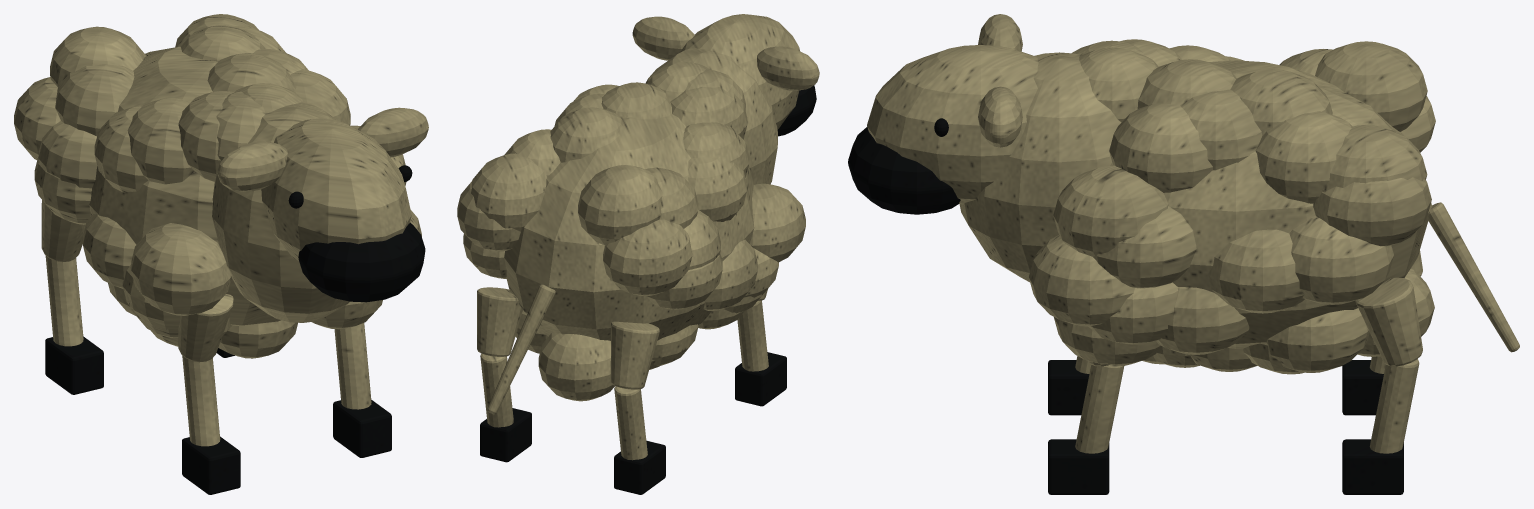
Rendered from PROP-56B018EAFACF_lod0.glb.
3 views of the same model, side by side, from view 1: azimuth 30°, elevation 25°; view 2: azimuth 150°, elevation 25°; view 3: azimuth 270°, elevation 25° (orthographic). The views are drawn at different scales.
Visible parts, largest first — view 1: wool_tufts.001, animal_head.004, animal_torso.004, animal_neck.004, hoof.004, lower_leg.004, muzzle.004, animal_ears.004, upper_leg.004; view 2: wool_tufts.001, animal_torso.004, hoof.004, upper_leg.004, lower_leg.004, animal_head.004, animal_ears.004, animal_neck.004, tail.004, muzzle.004; view 3: wool_tufts.001, animal_neck.004, animal_head.004, animal_torso.004, hoof.004, lower_leg.004, muzzle.004, upper_leg.004, animal_ears.004, tail.004.
Boxes of the visible parts, left/top/right/bottom form: wool_tufts.001: left=14, top=14, right=421, bottom=358; animal_head.004: left=261, top=118, right=411, bottom=260; animal_torso.004: left=81, top=46, right=280, bottom=325; animal_neck.004: left=212, top=102, right=349, bottom=322; hoof.004: left=45, top=336, right=391, bottom=494; lower_leg.004: left=45, top=255, right=371, bottom=446; muzzle.004: left=298, top=222, right=425, bottom=302; animal_ears.004: left=217, top=107, right=428, bottom=191; upper_leg.004: left=41, top=200, right=233, bottom=362; wool_tufts.001: left=457, top=62, right=805, bottom=401; animal_torso.004: left=504, top=114, right=754, bottom=340; hoof.004: left=480, top=352, right=786, bottom=494; upper_leg.004: left=477, top=287, right=767, bottom=389; lower_leg.004: left=480, top=300, right=768, bottom=460; animal_head.004: left=680, top=14, right=799, bottom=129; animal_ears.004: left=632, top=16, right=819, bottom=90; animal_neck.004: left=645, top=48, right=777, bottom=184; tail.004: left=487, top=284, right=555, bottom=414; muzzle.004: left=777, top=85, right=816, bottom=136; wool_tufts.001: left=1028, top=39, right=1435, bottom=374; animal_neck.004: left=959, top=52, right=1121, bottom=282; animal_head.004: left=867, top=45, right=1038, bottom=204; animal_torso.004: left=1110, top=60, right=1432, bottom=348; hoof.004: left=1048, top=360, right=1403, bottom=494; lower_leg.004: left=1075, top=356, right=1419, bottom=453; muzzle.004: left=848, top=127, right=960, bottom=214; upper_leg.004: left=1089, top=250, right=1422, bottom=366; animal_ears.004: left=978, top=14, right=1022, bottom=147; tail.004: left=1428, top=202, right=1519, bottom=352.
Size of the model in its own units: 0.8198 by 1.07 by 1.64.
2 materials, 2 textured.
